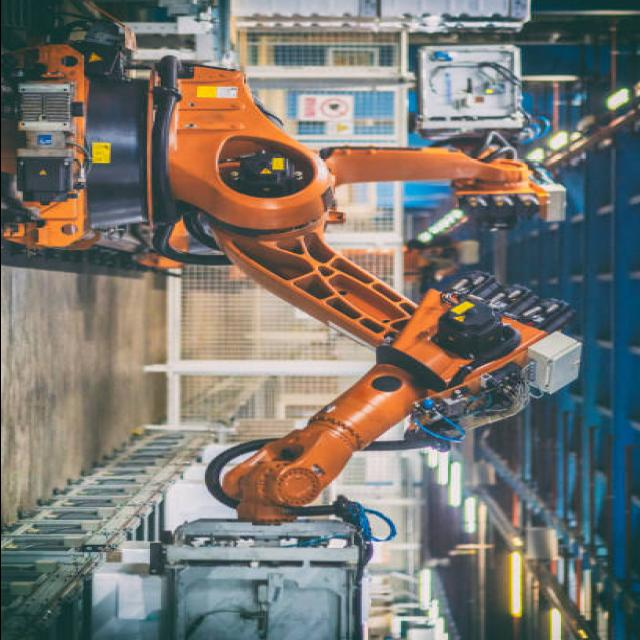Robotic-arm: (1, 54, 602, 528), (298, 130, 581, 240)
